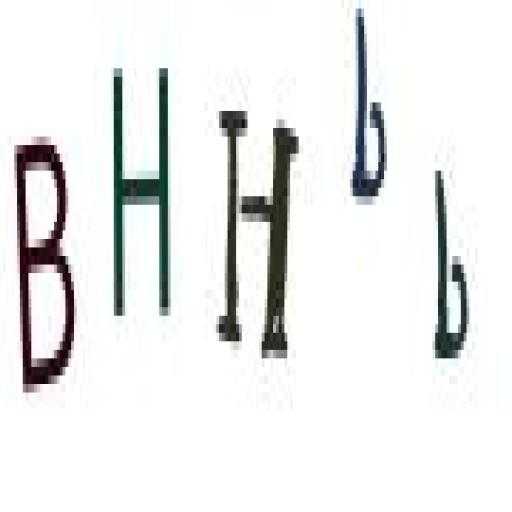B: (10, 122, 82, 410)
H: (216, 86, 304, 380), (108, 54, 172, 337)
b: (428, 154, 476, 382), (348, 9, 390, 210)
